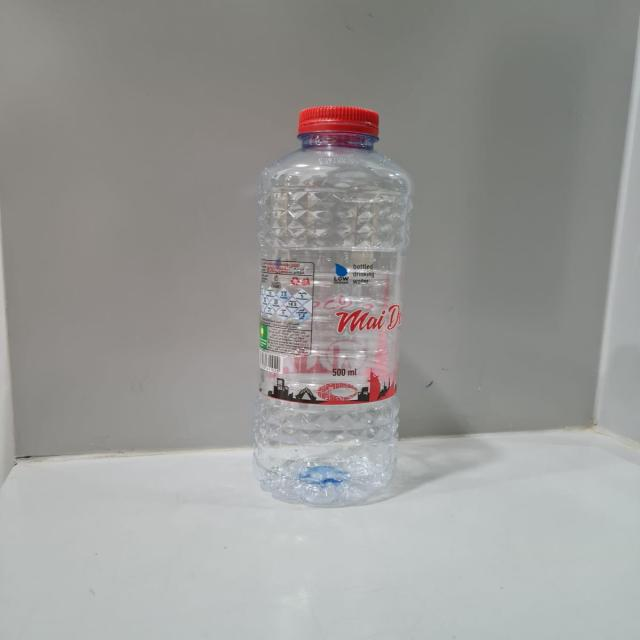bottle: (246, 106, 412, 500)
